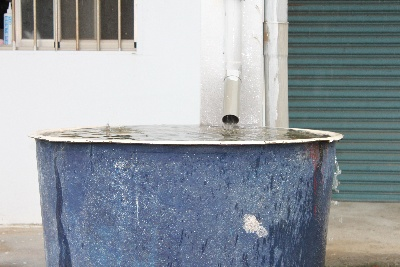bucket: (31, 124, 343, 267)
